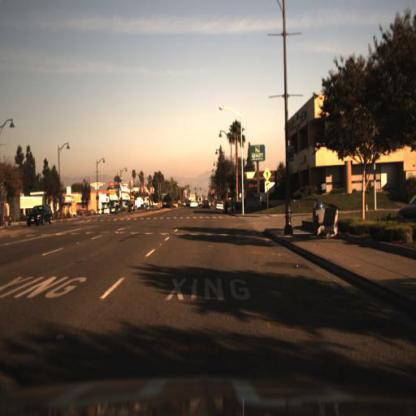car: (28, 207, 55, 228), (116, 206, 124, 216), (217, 203, 225, 212), (203, 201, 210, 211), (129, 205, 136, 214), (191, 202, 197, 210), (146, 206, 151, 212), (183, 203, 188, 208)
